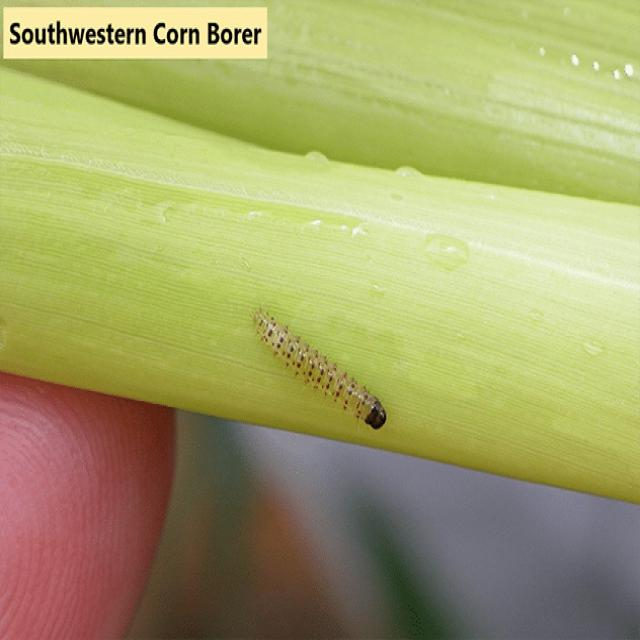cornborer-Larva-: (250, 300, 392, 436)
